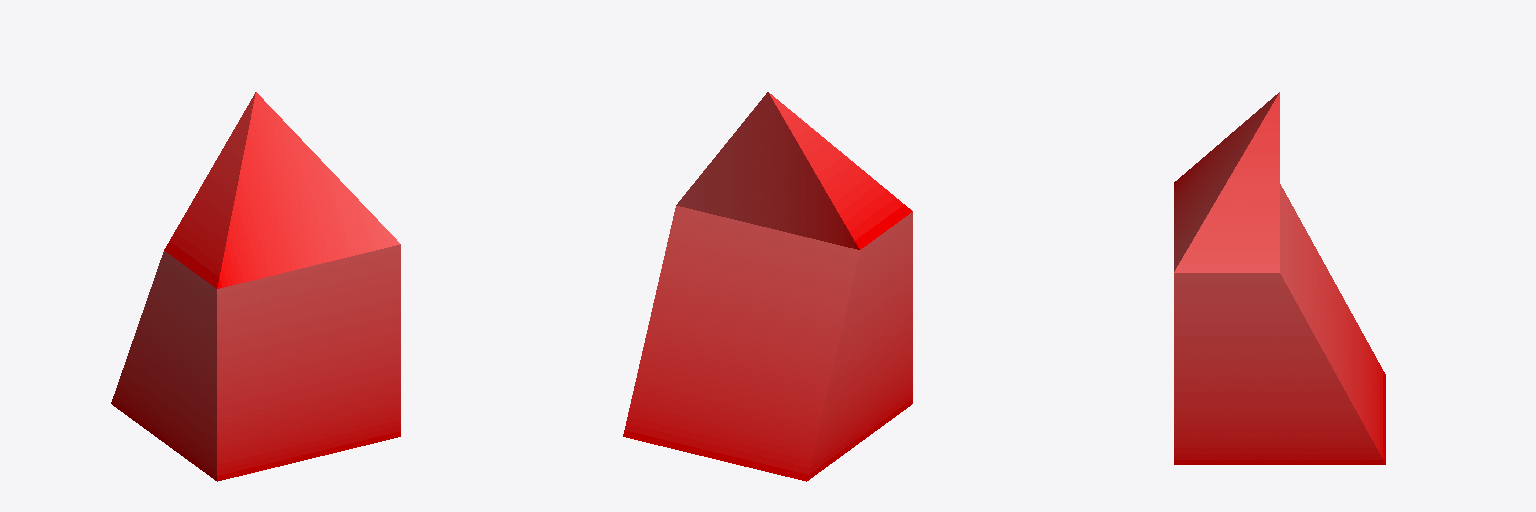
The picture shows the model from 3 angles: view 1: azimuth 30°, elevation 25°; view 2: azimuth 150°, elevation 25°; view 3: azimuth 270°, elevation 25°; orthographic projection.
Visible parts, largest first — view 1: Box001; view 2: Box001; view 3: Box001.
Part boxes in pixels (left/top/right/bottom): Box001: left=111, top=92, right=400, bottom=481; Box001: left=623, top=92, right=912, bottom=481; Box001: left=1174, top=92, right=1385, bottom=464.
Bounding box in the file's own units: 0.7 × 1.2 × 0.7.
Materials: 1 (1 with a texture image).